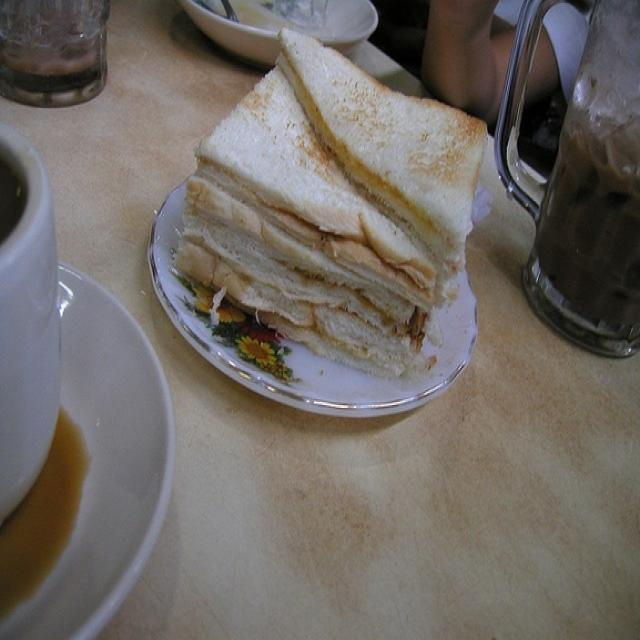面包点心: (145, 21, 518, 415)
